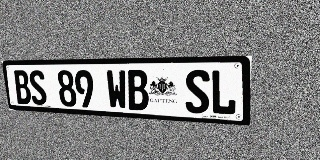8: (56, 70, 77, 107)
9: (74, 70, 95, 108)
B: (126, 70, 149, 111), (13, 70, 32, 105)
L: (210, 70, 237, 116)
S: (185, 70, 210, 114), (28, 70, 48, 105)
W: (106, 70, 128, 110)
